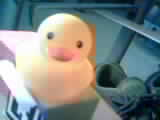duck: (10, 11, 109, 104)
